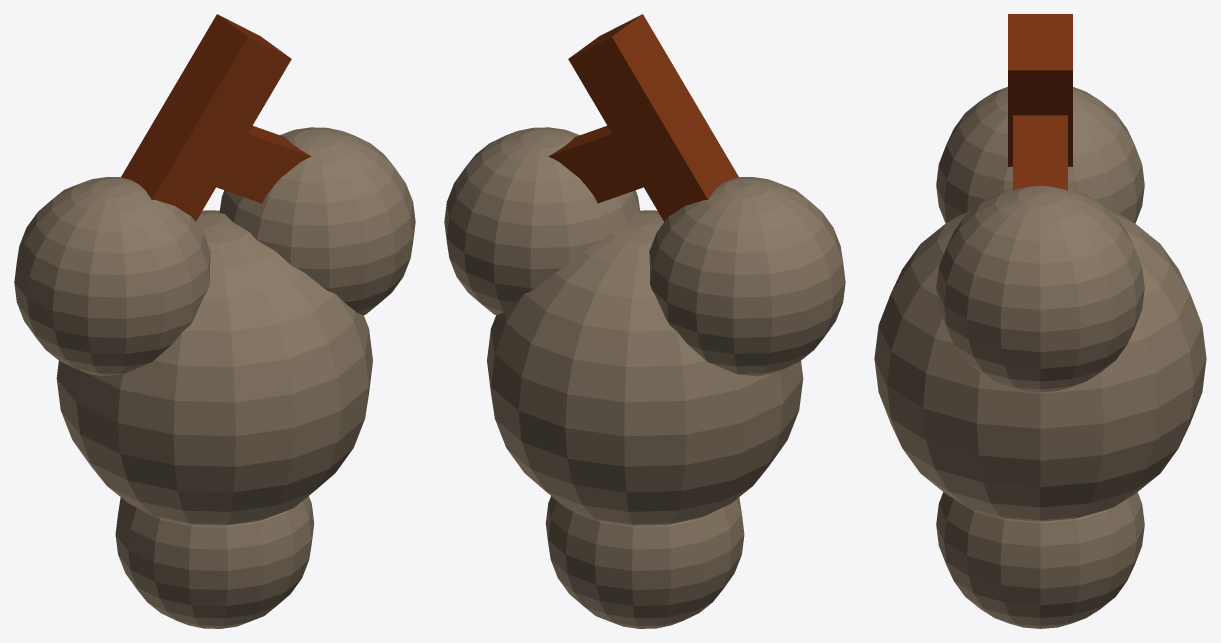
Rendered from BulwarkBerry.fbx.
The picture shows the model from 3 angles, left to right: view 1: azimuth 30°, elevation 25°; view 2: azimuth 150°, elevation 25°; view 3: azimuth 270°, elevation 25°; orthographic projection. The views are drawn at different scales.
Parts seen in each view (by area): view 1: Sphere; view 2: Sphere; view 3: Sphere.
Part boxes in pixels (bbox=[...]): Sphere: bbox=[14, 14, 415, 628]; Sphere: bbox=[444, 14, 845, 628]; Sphere: bbox=[874, 14, 1206, 628].
Size of the model in its own units: 272 by 408 by 200.
